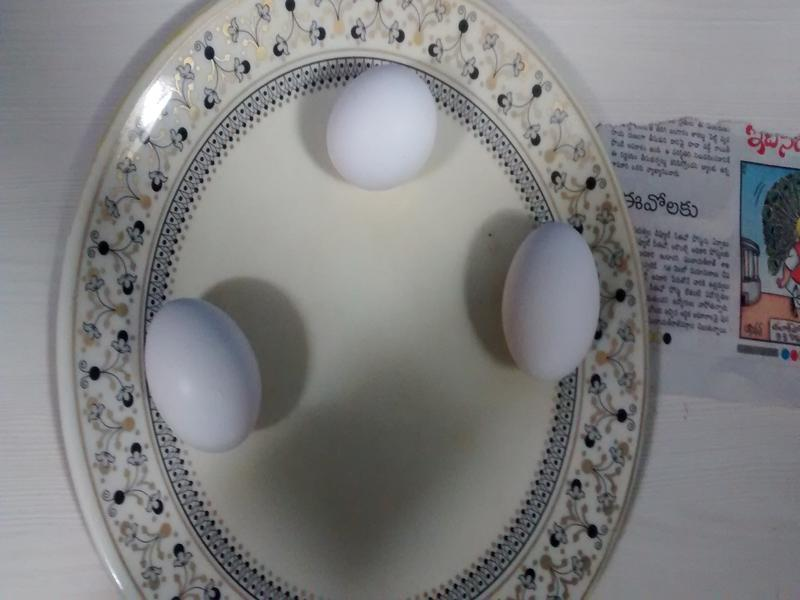egg: (144, 300, 262, 447)
